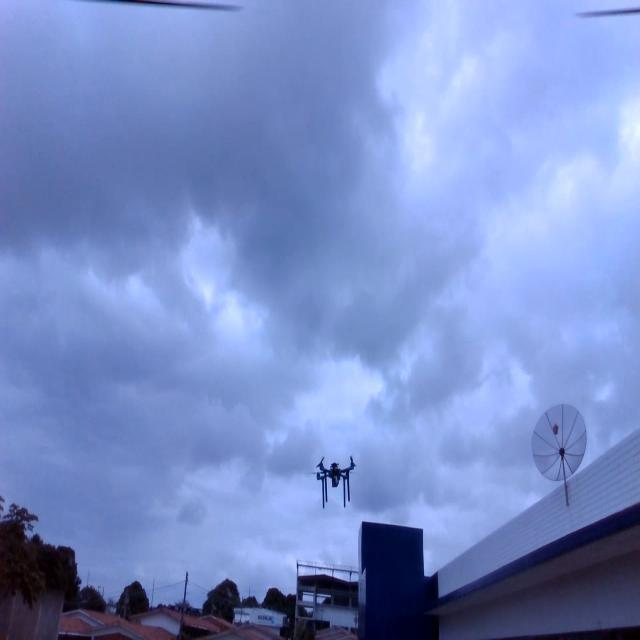-uav-: (303, 443, 366, 521)
